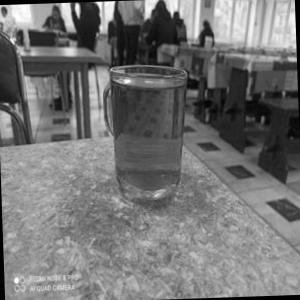tea: (105, 44, 200, 224)
